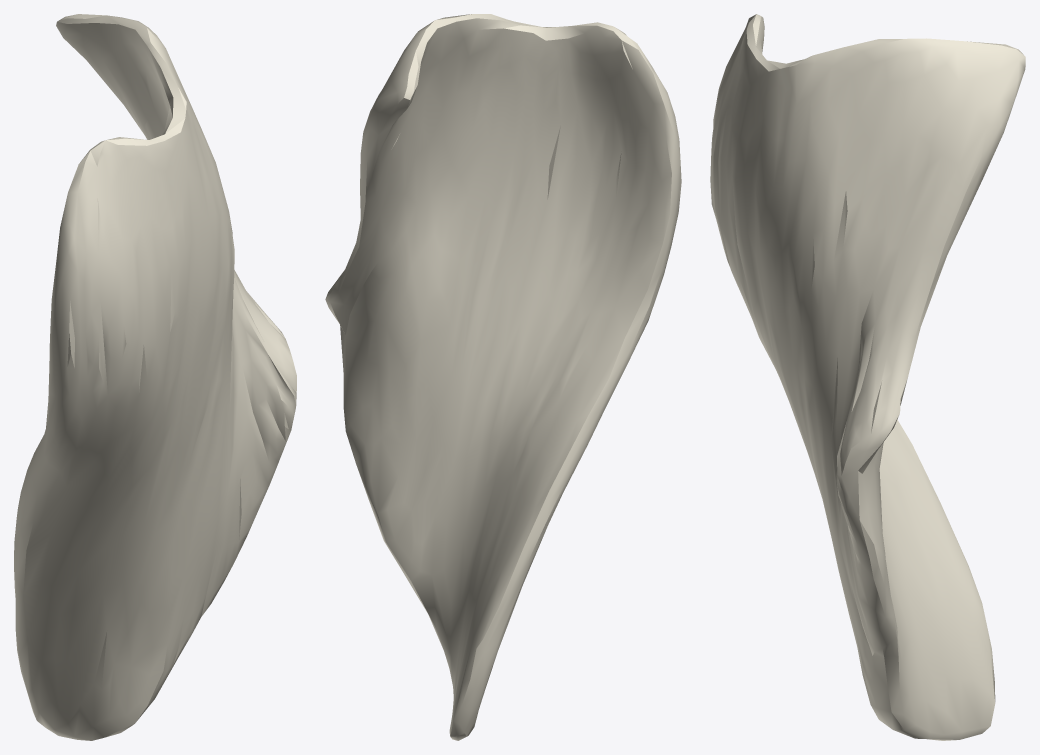
The model's file is fma43023_mm1390.glb.
3 views of the same model, side by side, from view 1: azimuth 30°, elevation 25°; view 2: azimuth 150°, elevation 25°; view 3: azimuth 270°, elevation 25° (orthographic). The views are drawn at different scales.
Parts seen in each view (by area): view 1: FMA43023_MM1390; view 2: FMA43023_MM1390; view 3: FMA43023_MM1390.
Part boxes in pixels (bbox=[...]): FMA43023_MM1390: bbox=[14, 14, 296, 740]; FMA43023_MM1390: bbox=[325, 14, 681, 740]; FMA43023_MM1390: bbox=[710, 14, 1025, 740].
Bounding box in the file's own units: 0.0441 × 0.1011 × 0.0397.
